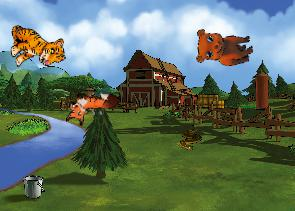bear: (192, 21, 255, 70)
fox: (65, 90, 118, 127)
tiger: (6, 19, 66, 71)
